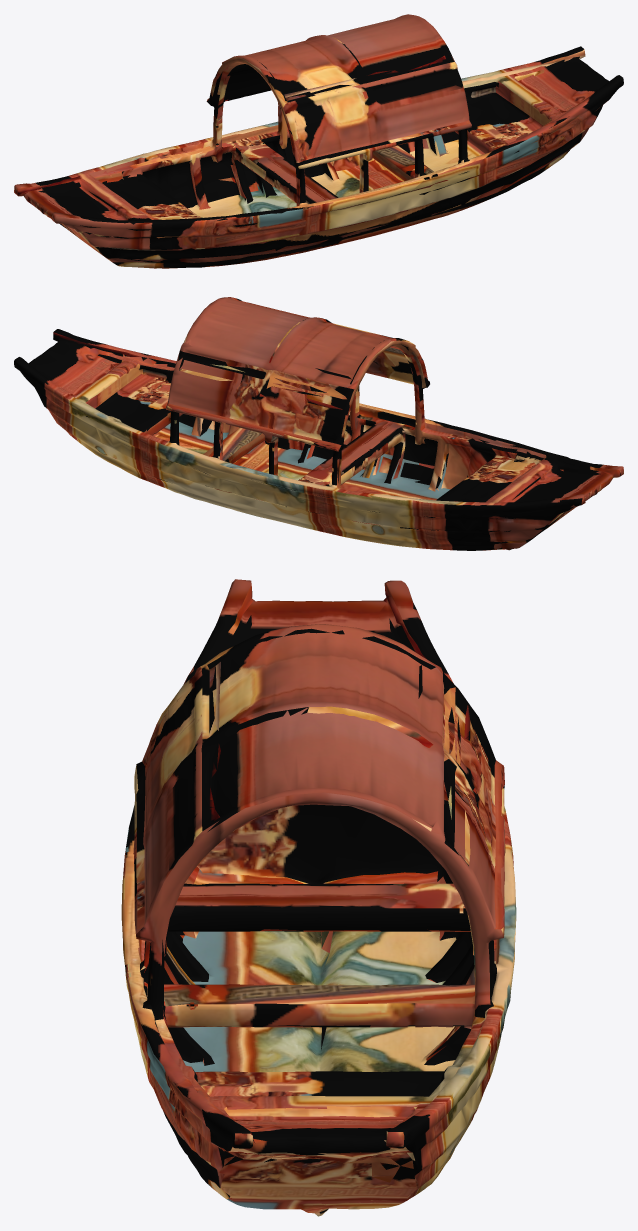
File: MDL_Environment_Other_Canoe_Canoe.fbx
3 views of the same model, one above another, from view 1: azimuth 30°, elevation 25°; view 2: azimuth 150°, elevation 25°; view 3: azimuth 270°, elevation 25° (orthographic). The views are drawn at different scales.
Visible parts, largest first — view 1: Mesh1.0; view 2: Mesh1.0; view 3: Mesh1.0.
Boxes of the visible parts, x1,y1,x2,y2 form: Mesh1.0: (14,14,623,268); Mesh1.0: (14,297,623,550); Mesh1.0: (121,579,516,1216).
Size of the model in its own units: 191 by 57.6 by 57.66.
